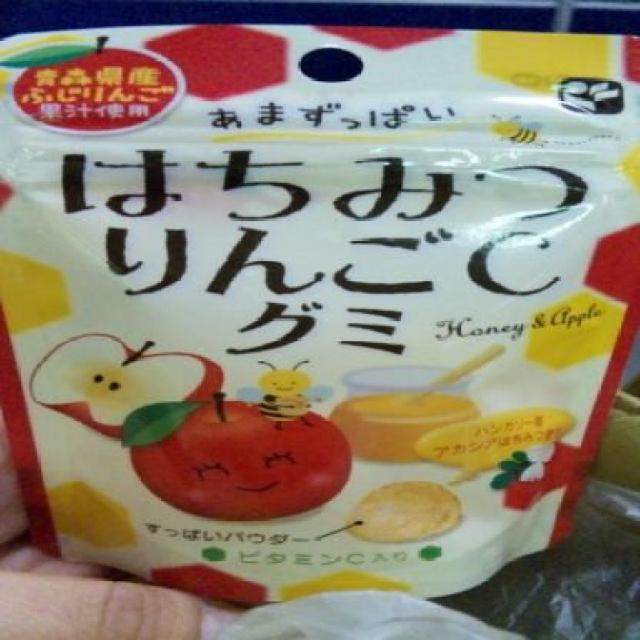Apple pie: (132, 407, 348, 527), (32, 331, 228, 440)
